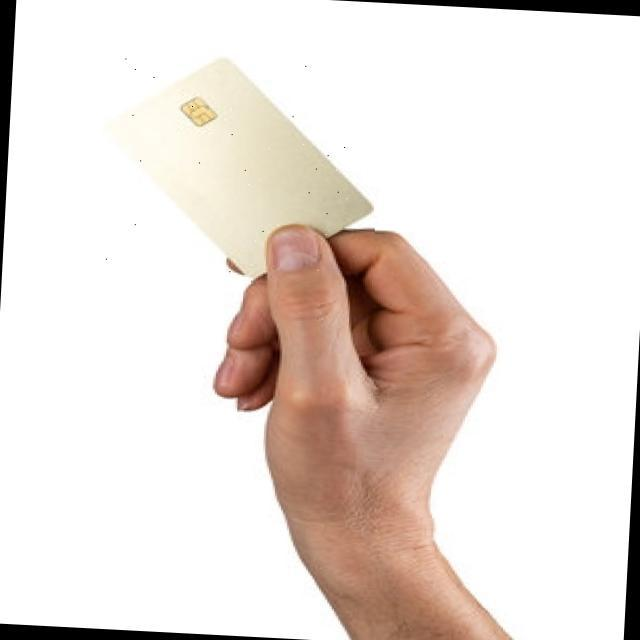payment_card: (106, 55, 374, 280)
